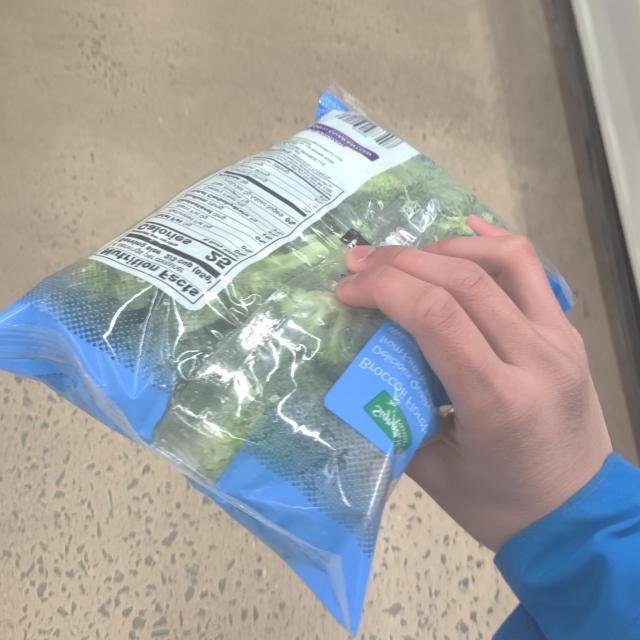Broccoli: (0, 83, 555, 613)
